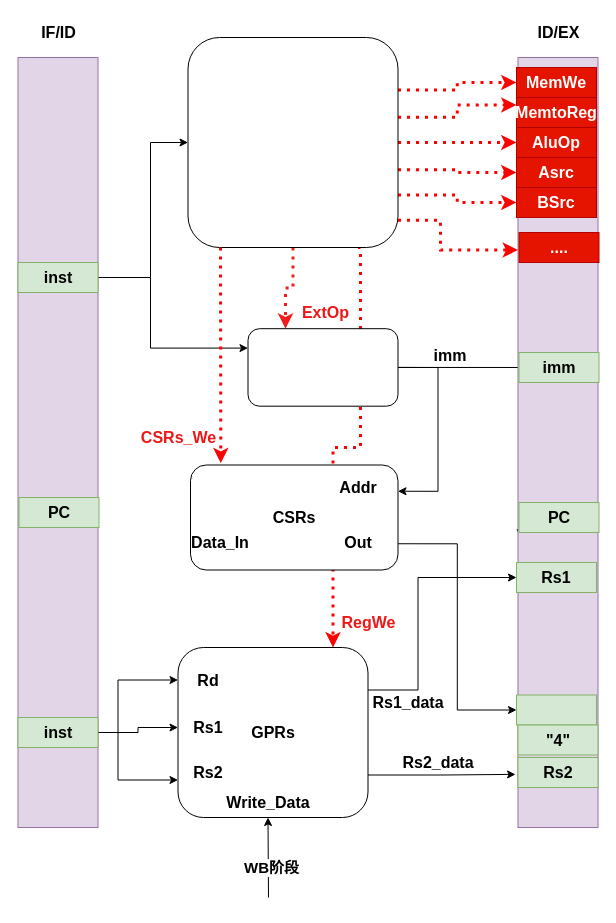
Some shapes in this 616 by 923 pixel diagram are drawn without their labels. Each missing label, with the centre of its shape:
"Control unit" belongs at point 292,142.
"CSRs_OUT" belongs at point 556,709.
"EXP" belongs at point 322,367.
